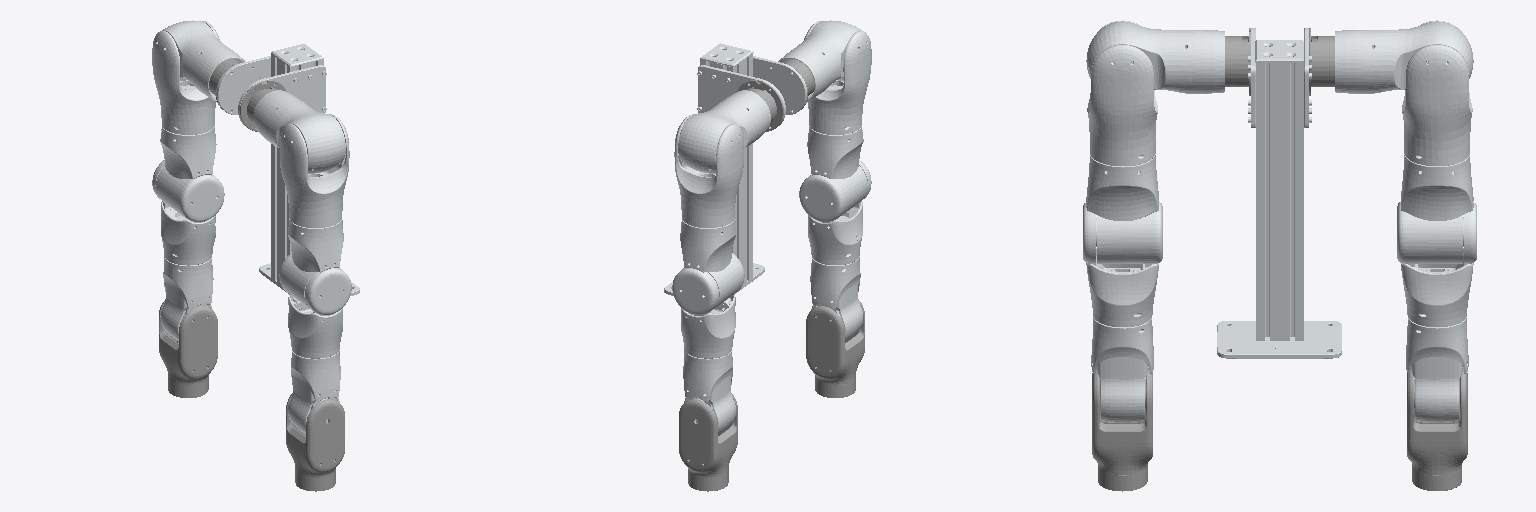
URDF robot description (A1_URDF):
<?xml version="1.0" encoding="utf-8"?>
<!-- This URDF was automatically created by SolidWorks to URDF Exporter! Originally created by Stephen Brawner.
     Commit Version: 1.6.0-4-g7f85cfe  Build Version: 1.6.7995.38578
     For more information, please see http://wiki.ros.org/sw_urdf_exporter -->
<robot
  name="A1_URDF">
  <mujoco>
    <compiler meshdir="meshes" strippath="true" balanceinertia="true" />
  </mujoco>
  <link
    name="base_link">
    <inertial>
      <origin
        xyz="-0.0058338864101595 -8.03875009165456E-05 0.203431150672762"
        rpy="0 0 0" />
      <mass
        value="1.71792346199407" />
      <inertia
        ixx="0.0139381299139192"
        ixy="1.4687666964717E-07"
        ixz="9.70056102150123E-08"
        iyy="0.0143114337354835"
        iyz="7.50664743835762E-09"
        izz="0.00224406571161415" />
    </inertial>
    <visual>
      <origin
        xyz="0 0 0"
        rpy="0 0 0" />
      <geometry>
        <mesh
          filename="./meshes/base_link.STL" />
      </geometry>
      <material
        name="">
        <color
          rgba="0.898039215686275 0.917647058823529 0.929411764705882 1" />
      </material>
    </visual>
    <collision>
      <origin
        xyz="0 0 0"
        rpy="0 0 0" />
      <geometry>
        <mesh
          filename="./meshes/base_link.STL" />
      </geometry>
    </collision>
  </link>
  <link
    name="Link_r0">
    <inertial>
      <origin
        xyz="-5.6409921329381197e-05 -3.2642115646686099e-05 0.029793383421359902"
        rpy="0 0 0" />
      <mass
        value="0.771006476050805" />
      <inertia
        ixx="0.00051809837073439299"
        ixy="1.03984672126558e-08"
        ixz="-1.1726530378199601e-06"
        iyy="0.00050832785177481695"
        iyz="1.0033747136799001e-06"
        izz="0.00051208645806623601" />
    </inertial>
    <visual>
      <origin
        xyz="0 0 0"
        rpy="-1.5707963267948966 0 -1.5707963267948966" />
      <geometry>
        <mesh
          filename="./meshes/Link_r0.STL" />
      </geometry>
      <material
        name="">
        <color
          rgba="0.698039215686274 0.698039215686274 0.698039215686274 1" />
      </material>
    </visual>
    <collision>
      <origin
        xyz="0 0 0"
        rpy="-1.5707963267948966 0 -1.5707963267948966" />
      <geometry>
        <mesh
          filename="./meshes/Link_r0.STL" />
      </geometry>
    </collision>
  </link>
  <joint
    name="joint_r0"
    type="fixed">
    <origin
      xyz="-0.080655000000000004 -0.035999999999999997 0.33600000000000002"
      rpy="1.5707963267948966 -1.5707963267948966 0" />
    <parent
      link="base_link" />
    <child
      link="Link_r0" />
    <axis
      xyz="0 0 0" />
  </joint>
  <link
    name="Link_r1">
    <inertial>
      <origin
        xyz="6.518312090911779e-05 0.00148531011922509 0.077562970455144625"
        rpy="0 0 0" />
      <mass
        value="0.699008573524528" />
      <inertia
        ixx="0.00072977611405417248"
        ixy="-3.1458761264417245e-07"
        ixz="-9.405868259133119e-07"
        iyy="0.00060985122772748803"
        iyz="-3.2996487668605226e-05"
        izz="0.00038040219651032441" />
    </inertial>
    <visual>
      <origin
        xyz="0 0 0"
        rpy="3.6732051033548342e-06 0 -1.5707963267948966" />
      <geometry>
        <mesh
          filename="./meshes/Link_r1.STL" />
      </geometry>
      <material
        name="">
        <color
          rgba="0.898039215686275 0.917647058823529 0.929411764705882 1" />
      </material>
    </visual>
    <collision>
      <origin
        xyz="0 0 0"
        rpy="3.6732051033548342e-06 0 -1.5707963267948966" />
      <geometry>
        <mesh
          filename="./meshes/Link_r1.STL" />
      </geometry>
    </collision>
  </link>
  <joint
    name="joint_r1"
    type="revolute">
    <origin
      xyz="0 0 0.060249999999999998"
      rpy="0 0 0" />
    <parent
      link="Link_r0" />
    <child
      link="Link_r1" />
    <axis
      xyz="-3.6732051033465739e-06 0 0.99999999999325373" />
    <limit
      lower="-1.04"
      upper="3.14"
      effort="0"
      velocity="0" />
  </joint>
  <link
    name="Link_r2">
    <inertial>
      <origin
        xyz="-2.74343503257717E-05 -0.072546377066496 0.00350067054448863"
        rpy="0 0 0" />
      <mass
        value="0.678339582027986" />
      <inertia
        ixx="0.000724376213206043"
        ixy="-8.23693462230819E-07"
        ixz="2.63513474631934E-09"
        iyy="0.000460494619893243"
        iyz="-2.93777853727707E-05"
        izz="0.000532103707262649" />
    </inertial>
    <visual>
      <origin
        xyz="0 0 0"
        rpy="0 0 0" />
      <geometry>
        <mesh
          filename="./meshes/Link_r2.STL" />
      </geometry>
      <material
        name="">
        <color
          rgba="0.898039215686275 0.917647058823529 0.929411764705882 1" />
      </material>
    </visual>
    <collision>
      <origin
        xyz="0 0 0"
        rpy="0 0 0" />
      <geometry>
        <mesh
          filename="./meshes/Link_r2.STL" />
      </geometry>
    </collision>
  </link>
  <joint
    name="joint_r2"
    type="revolute">
    <origin
      xyz="-3.625453437003069e-07 0 0.098699999999334154"
      rpy="2.3561944901889715 1.570791132098422 0.78539816340082136" />
    <parent
      link="Link_r1" />
    <child
      link="Link_r2" />
    <axis
      xyz="0 0 1" />
    <limit
      lower="-3.14"
      upper="0.26"
      effort="0"
      velocity="0" />
  </joint>
  <link
    name="Link_r3">
    <inertial>
      <origin
        xyz="-8.1362976005516202e-06 -0.0017008875565850941 0.093348891510299278"
        rpy="0 0 0" />
      <mass
        value="0.667439620002479" />
      <inertia
        ixx="0.00057113134645990255"
        ixy="-3.7332388083383994e-09"
        ixz="-1.5912574765149399e-07"
        iyy="0.00045138810652060749"
        iyz="1.3010338508541516e-05"
        izz="0.00041079968003224758" />
    </inertial>
    <visual>
      <origin
        xyz="0 0 0"
        rpy="3.6731916109191028e-06 3.6732051033300538e-06 -1.5708" />
      <geometry>
        <mesh
          filename="./meshes/Link_r3.STL" />
      </geometry>
      <material
        name="">
        <color
          rgba="0.898039215686275 0.917647058823529 0.929411764705882 1" />
      </material>
    </visual>
    <collision>
      <origin
        xyz="0 0 0"
        rpy="3.6731916109191028e-06 3.6732051033300538e-06 -1.5708" />
      <geometry>
        <mesh
          filename="./meshes/Link_r3.STL" />
      </geometry>
    </collision>
  </link>
  <joint
    name="joint_r3"
    type="revolute">
    <origin
      xyz="0 -0.1215 0"
      rpy="-1.5708 -1.5707926535897934 -3.1415926535897931" />
    <parent
      link="Link_r2" />
    <child
      link="Link_r3" />
    <axis
      xyz="-3.6732051033217936e-06 -3.6731916108860622e-06 0.99999999998650746" />
    <limit
      lower="-2.75"
      upper="2.75"
      effort="0"
      velocity="0" />
  </joint>
  <link
    name="Link_r4">
    <inertial>
      <origin
        xyz="-1.1669197211027207e-07 -0.07189958209189648 0.0056221733970643088"
        rpy="0 0 0" />
      <mass
        value="0.507385590081131" />
      <inertia
        ixx="0.00027640421177088181"
        ixy="-2.0346269658392819e-09"
        ixz="9.7403070624895663e-10"
        iyy="0.00025609520507405796"
        iyz="-3.4632432093237875e-05"
        izz="0.00027795453087980297" />
    </inertial>
    <visual>
      <origin
        xyz="0 0 0"
        rpy="-3.141585307193079 1.3492410950824811e-11 -3.6732051033052739e-06" />
      <geometry>
        <mesh
          filename="./meshes/Link_r4.STL" />
      </geometry>
      <material
        name="">
        <color
          rgba="0.898039215686275 0.917647058823529 0.929411764705882 1" />
      </material>
    </visual>
    <collision>
      <origin
        xyz="0 0 0"
        rpy="-3.141585307193079 1.3492410950824811e-11 -3.6732051033052739e-06" />
      <geometry>
        <mesh
          filename="./meshes/Link_r4.STL" />
      </geometry>
    </collision>
  </link>
  <joint
    name="joint_r4"
    type="revolute">
    <origin
      xyz="-4.1176794502467211e-07 -0.00010086139745906392 0.11199999962951541"
      rpy="-1.5707963267948966 0 0" />
    <parent
      link="Link_r3" />
    <child
      link="Link_r4" />
    <axis
      xyz="-1.3492410950664359e-11 -7.3463967141830754e-06 0.99999999997301503" />
    <limit
      lower="-1.91"
      upper="1.91"
      effort="0"
      velocity="0" />
  </joint>
  <link
    name="Link_r5">
    <inertial>
      <origin
        xyz="-9.91897391888763E-07 8.11496771671166E-05 0.0882672050468976"
        rpy="0 0 0" />
      <mass
        value="0.533144427415355" />
      <inertia
        ixx="0.000403030021531325"
        ixy="8.27262504310674E-10"
        ixz="6.54807099008976E-08"
        iyy="0.00038314756874412"
        iyz="-5.79344513642361E-06"
        izz="0.000240045327533057" />
    </inertial>
    <visual>
      <origin
        xyz="0 0 0"
        rpy="0 0 0" />
      <geometry>
        <mesh
          filename="./meshes/Link_r5.STL" />
      </geometry>
      <material
        name="">
        <color
          rgba="0.898039215686275 0.917647058823529 0.929411764705882 1" />
      </material>
    </visual>
    <collision>
      <origin
        xyz="0 0 0"
        rpy="0 0 0" />
      <geometry>
        <mesh
          filename="./meshes/Link_r5.STL" />
      </geometry>
    </collision>
  </link>
  <joint
    name="joint_r5"
    type="revolute">
    <origin
      xyz="-4.0772576782128141e-07 -0.11100000073420146 9.9634549962015071e-05"
      rpy="1.5707999999865074 1.3492410951172447e-11 -3.6732051033052743e-06" />
    <parent
      link="Link_r4" />
    <child
      link="Link_r5" />
    <axis
      xyz="0 0 1" />
    <limit
      lower="-2.75"
      upper="2.75"
      effort="0"
      velocity="0" />
  </joint>
  <link
    name="Link_r6">
    <inertial>
      <origin
        xyz="7.32513477796903E-06 0.0710144365941018 0.0039333569698452"
        rpy="0 0 0" />
      <mass
        value="0.519324512857312" />
      <inertia
        ixx="0.00042798982575796"
        ixy="-3.70095340129789E-07"
        ixz="-1.74151273423014E-07"
        iyy="0.000271059092665243"
        iyz="3.25620141655345E-05"
        izz="0.000351004414489397" />
    </inertial>
    <visual>
      <origin
        xyz="0 0 0"
        rpy="0 0 0" />
      <geometry>
        <mesh
          filename="./meshes/Link_r6.STL" />
      </geometry>
      <material
        name="">
        <color
          rgba="0.698039215686274 0.698039215686274 0.698039215686274 1" />
      </material>
    </visual>
    <collision>
      <origin
        xyz="0 0 0"
        rpy="0 0 0" />
      <geometry>
        <mesh
          filename="./meshes/Link_r6.STL" />
      </geometry>
    </collision>
  </link>
  <joint
    name="joint_r6"
    type="revolute">
    <origin
      xyz="0 0 0.11"
      rpy="1.5708 0 0" />
    <parent
      link="Link_r5" />
    <child
      link="Link_r6" />
    <axis
      xyz="0 0 1" />
    <limit
      lower="-1.57"
      upper="1.57"
      effort="0"
      velocity="0" />
  </joint>
  <link
    name="Link_r7">
    <inertial>
      <origin
        xyz="8.09907696464052E-13 -0.0022020925841694 0.00293052240317948"
        rpy="0 0 0" />
      <mass
        value="0.0177506448635755" />
      <inertia
        ixx="2.81905964099438E-06"
        ixy="5.38514683324669E-16"
        ixz="-7.35875033932577E-18"
        iyy="1.89453459279246E-06"
        iyz="2.22908037665912E-09"
        izz="4.60994245909736E-06" />
    </inertial>
    <visual>
      <origin
        xyz="0 0 0"
        rpy="0 0 0" />
      <geometry>
        <mesh
          filename="./meshes/Link_r7.STL" />
      </geometry>
      <material
        name="">
        <color
          rgba="0.898039215686275 0.917647058823529 0.929411764705882 1" />
      </material>
    </visual>
    <collision>
      <origin
        xyz="0 0 0"
        rpy="0 0 0" />
      <geometry>
        <mesh
          filename="./meshes/Link_r7.STL" />
      </geometry>
    </collision>
  </link>
  <joint
    name="joint_r7"
    type="revolute">
    <origin
      xyz="0 0.112 0"
      rpy="1.5708 0 3.1416" />
    <parent
      link="Link_r6" />
    <child
      link="Link_r7" />
    <axis
      xyz="0 0 1" />
    <limit
      lower="-2.75"
      upper="2.75"
      effort="0"
      velocity="0" />
  </joint>
  <link
    name="Link_l0">
    <inertial>
      <origin
        xyz="-5.0300863574825903e-05 3.2805538599273202e-05 0.0297888442636636"
        rpy="0 0 0" />
      <mass
        value="0.771130628935356" />
      <inertia
        ixx="0.00051812416042226696"
        ixy="1.17368170849288e-08"
        ixz="-1.0443053540982601e-06"
        iyy="0.00050860231794612595"
        iyz="-1.0004433284959899e-06"
        izz="0.00051220716326619005" />
    </inertial>
    <visual>
      <origin
        xyz="0 0 0"
        rpy="1.5707963267948966 0 1.5707963267948966" />
      <geometry>
        <mesh
          filename="./meshes/Link_l0.STL" />
      </geometry>
      <material
        name="">
        <color
          rgba="0.698039215686274 0.698039215686274 0.698039215686274 1" />
      </material>
    </visual>
    <collision>
      <origin
        xyz="0 0 0"
        rpy="1.5707963267948966 0 1.5707963267948966" />
      <geometry>
        <mesh
          filename="./meshes/Link_l0.STL" />
      </geometry>
    </collision>
  </link>
  <joint
    name="joint_l0"
    type="fixed">
    <origin
      xyz="-0.080655000000000004 0.035999999999999997 0.33600000000000002"
      rpy="-1.5707963267948966 -1.5707963267948966 0" />
    <parent
      link="base_link" />
    <child
      link="Link_l0" />
    <axis
      xyz="0 0 0" />
  </joint>
  <link
    name="Link_l1">
    <inertial>
      <origin
        xyz="6.5324588011508408e-05 -0.00148530538922362 0.077562609895676662"
        rpy="0 0 0" />
      <mass
        value="0.699012569536138" />
      <inertia
        ixx="0.00072979235205175618"
        ixy="3.1743392264302849e-07"
        ixz="-9.4036135142407659e-07"
        iyy="0.00060985219884004602"
        iyz="3.2990584247127065e-05"
        izz="0.0003804126792904538" />
    </inertial>
    <visual>
      <origin
        xyz="0 0 0"
        rpy="-3.6732051033548342e-06 0 1.5707963267948966" />
      <geometry>
        <mesh
          filename="./meshes/Link_l1.STL" />
      </geometry>
      <material
        name="">
        <color
          rgba="0.898039215686275 0.917647058823529 0.929411764705882 1" />
      </material>
    </visual>
    <collision>
      <origin
        xyz="0 0 0"
        rpy="-3.6732051033548342e-06 0 1.5707963267948966" />
      <geometry>
        <mesh
          filename="./meshes/Link_l1.STL" />
      </geometry>
    </collision>
  </link>
  <joint
    name="joint_l1"
    type="revolute">
    <origin
      xyz="0 0 0.060249999999999998"
      rpy="0 0 0" />
    <parent
      link="Link_l0" />
    <child
      link="Link_l1" />
    <axis
      xyz="-3.6732051033465739e-06 0 0.99999999999325373" />
    <limit
      lower="-3.14"
      upper="1.04"
      effort="0"
      velocity="0" />
  </joint>
  <link
    name="Link_l2">
    <inertial>
      <origin
        xyz="2.5991096323486929e-05 -0.072547396038183734 0.003400097494069746"
        rpy="0 0 0" />
      <mass
        value="0.678292070540836" />
      <inertia
        ixx="0.00072432950401666869"
        ixy="8.2612207422305146e-07"
        ixz="-2.1849670801061952e-08"
        iyy="0.00046047580209213881"
        iyz="-2.9386963128138003e-05"
        izz="0.00053206184166665414" />
    </inertial>
    <visual>
      <origin
        xyz="0 0 0"
        rpy="3.6732051033548342e-06 3.6732051033548342e-06 -1.5708" />
      <geometry>
        <mesh
          filename="./meshes/Link_l2.STL" />
      </geometry>
      <material
        name="">
        <color
          rgba="0.898039215686275 0.917647058823529 0.929411764705882 1" />
      </material>
    </visual>
    <collision>
      <origin
        xyz="0 0 0"
        rpy="3.6732051033548342e-06 3.6732051033548342e-06 -1.5708" />
      <geometry>
        <mesh
          filename="./meshes/Link_l2.STL" />
      </geometry>
    </collision>
  </link>
  <joint
    name="joint_l2"
    type="revolute">
    <origin
      xyz="-3.625453437003069e-07 0 0.098699999999334154"
      rpy="-1.5707963267948966 -1.5707963267948966 0" />
    <parent
      link="Link_l1" />
    <child
      link="Link_l2" />
    <axis
      xyz="-3.6732185957575245e-06 -3.6731916108612818e-06 0.99999999998650746" />
    <limit
      lower="-0.26"
      upper="3.14"
      effort="0"
      velocity="0" />
  </joint>
  <link
    name="Link_l3">
    <inertial>
      <origin
        xyz="7.3710224592908454e-06 0.0017008042461317484 0.093348891534898976"
        rpy="0 0 0" />
      <mass
        value="0.667439620457598" />
      <inertia
        ixx="0.00057113134735861442"
        ixy="8.7738829423632978e-09"
        ixz="1.616519696595284e-07"
        iyy="0.00045138810612053347"
        iyz="-1.3010321692357674e-05"
        izz="0.00041079968877403438" />
    </inertial>
    <visual>
      <origin
        xyz="0 0 0"
        rpy="3.6735724225648736e-06 3.6731915925283599e-06 -3.1414926535763001" />
      <geometry>
        <mesh
          filename="./meshes/Link_l3.STL" />
      </geometry>
      <material
        name="">
        <color
          rgba="0.898039215686275 0.917647058823529 0.929411764705882 1" />
      </material>
    </visual>
    <collision>
      <origin
        xyz="0 0 0"
        rpy="3.6735724225648736e-06 3.6731915925283599e-06 -3.1414926535763001" />
      <geometry>
        <mesh
          filename="./meshes/Link_l3.STL" />
      </geometry>
    </collision>
  </link>
  <joint
    name="joint_l3"
    type="revolute">
    <origin
      xyz="-4.4592709819402209e-07 -0.12149999963104151 -0.00010044629441870738"
      rpy="1.5707963267948966 -1.5707963267948966 0" />
    <parent
      link="Link_l2" />
    <child
      link="Link_l3" />
    <axis
      xyz="-3.6735589314205621e-06 3.6732050849805432e-06 0.99999999998650602" />
    <limit
      lower="-2.75"
      upper="2.75"
      effort="0"
      velocity="0" />
  </joint>
  <link
    name="Link_l4">
    <inertial>
      <origin
        xyz="-1.47550542811681E-07 0.0718995408470047 0.00562270150238153"
        rpy="0 0 0" />
      <mass
        value="0.507385586657591" />
      <inertia
        ixx="0.000276404210892645"
        ixy="-1.96033387806223E-09"
        ixz="-1.10172820487673E-09"
        iyy="0.000256094693830901"
        iyz="3.46322717041057E-05"
        izz="0.000277955036928398" />
    </inertial>
    <visual>
      <origin
        xyz="0 0 0"
        rpy="0 0 0" />
      <geometry>
        <mesh
          filename="./meshes/Link_l4.STL" />
      </geometry>
      <material
        name="">
        <color
          rgba="0.898039215686275 0.917647058823529 0.929411764705882 1" />
      </material>
    </visual>
    <collision>
      <origin
        xyz="0 0 0"
        rpy="0 0 0" />
      <geometry>
        <mesh
          filename="./meshes/Link_l4.STL" />
      </geometry>
    </collision>
  </link>
  <joint
    name="joint_l4"
    type="revolute">
    <origin
      xyz="-4.2148360030222731e-07 0.00010086139846659004 0.11199999962947839"
      rpy="1.5707963264005926 -3.6731646048592994e-06 0.0001073464236997842" />
    <parent
      link="Link_l3" />
    <child
      link="Link_l4" />
    <axis
      xyz="0 0 1" />
    <limit
      lower="-1.91"
      upper="1.91"
      effort="0"
      velocity="0" />
  </joint>
  <link
    name="Link_l5">
    <inertial>
      <origin
        xyz="9.92172288272197E-07 -8.1147493016076E-05 0.0882672055879332"
        rpy="0 0 0" />
      <mass
        value="0.533144415193751" />
      <inertia
        ixx="0.000403030005194806"
        ixy="8.25514348455567E-10"
        ixz="-6.54808917976416E-08"
        iyy="0.00038314755750435"
        iyz="5.79347520210361E-06"
        izz="0.000240045322334498" />
    </inertial>
    <visual>
      <origin
        xyz="0 0 0"
        rpy="0 0 0" />
      <geometry>
        <mesh
          filename="./meshes/Link_l5.STL" />
      </geometry>
      <material
        name="">
        <color
          rgba="0.898039215686275 0.917647058823529 0.929411764705882 1" />
      </material>
    </visual>
    <collision>
      <origin
        xyz="0 0 0"
        rpy="0 0 0" />
      <geometry>
        <mesh
          filename="./meshes/Link_l5.STL" />
      </geometry>
    </collision>
  </link>
  <joint
    name="joint_l5"
    type="revolute">
    <origin
      xyz="0 0.111 0.00010045"
      rpy="-1.5708 0 0" />
    <parent
      link="Link_l4" />
    <child
      link="Link_l5" />
    <axis
      xyz="0 0 1" />
    <limit
      lower="-2.75"
      upper="2.75"
      effort="0"
      velocity="0" />
  </joint>
  <link
    name="Link_l6">
    <inertial>
      <origin
        xyz="-7.3240074565939E-06 -0.0710144386667431 0.00393335877979056"
        rpy="0 0 0" />
      <mass
        value="0.519324489008105" />
      <inertia
        ixx="0.000427989792447479"
        ixy="-3.70097046618755E-07"
        ixz="1.74154343441058E-07"
        iyy="0.000271059071495622"
        iyz="-3.2562028057684E-05"
        izz="0.000351004401667421" />
    </inertial>
    <visual>
      <origin
        xyz="0 0 0"
        rpy="0 0 0" />
      <geometry>
        <mesh
          filename="./meshes/Link_l6.STL" />
      </geometry>
      <material
        name="">
        <color
          rgba="0.698039215686274 0.698039215686274 0.698039215686274 1" />
      </material>
    </visual>
    <collision>
      <origin
        xyz="0 0 0"
        rpy="0 0 0" />
      <geometry>
        <mesh
          filename="./meshes/Link_l6.STL" />
      </geometry>
    </collision>
  </link>
  <joint
    name="joint_l6"
    type="revolute">
    <origin
      xyz="0 0 0.11"
      rpy="-1.5708 0 0" />
    <parent
      link="Link_l5" />
    <child
      link="Link_l6" />
    <axis
      xyz="0 0 1" />
    <limit
      lower="-1.57"
      upper="1.57"
      effort="0"
      velocity="0" />
  </joint>
  <link
    name="Link_l7">
    <inertial>
      <origin
        xyz="1.48194156501802E-07 -0.0022020925773697 0.00293052240317371"
        rpy="0 0 0" />
      <mass
        value="0.0177506448635751" />
      <inertia
        ixx="2.81905963680209E-06"
        ixy="6.22561213944916E-11"
        ixz="-2.05797154201455E-13"
        iyy="1.89453459698476E-06"
        iyz="2.22908043797951E-09"
        izz="4.60994245909715E-06" />
    </inertial>
    <visual>
      <origin
        xyz="0 0 0"
        rpy="0 0 0" />
      <geometry>
        <mesh
          filename="./meshes/Link_l7.STL" />
      </geometry>
      <material
        name="">
        <color
          rgba="0.898039215686275 0.917647058823529 0.929411764705882 1" />
      </material>
    </visual>
    <collision>
      <origin
        xyz="0 0 0"
        rpy="0 0 0" />
      <geometry>
        <mesh
          filename="./meshes/Link_l7.STL" />
      </geometry>
    </collision>
  </link>
  <joint
    name="joint_l7"
    type="revolute">
    <origin
      xyz="0 -0.112 0"
      rpy="1.5708 6.7338E-05 0" />
    <parent
      link="Link_l6" />
    <child
      link="Link_l7" />
    <axis
      xyz="0 0 1" />
    <limit
      lower="-2.75"
      upper="2.75"
      effort="0"
      velocity="0" />
  </joint>
</robot>

--- What the picture shows (computed from the rendered views, not written in the file) ---
3 views of the same robot in one strip: view 1: azimuth 30°, elevation 25°; view 2: azimuth 150°, elevation 25°; view 3: azimuth 270°, elevation 25° (orthographic).
Model A1_URDF with 17 links and 16 joints (14 revolute, 2 fixed), rooted at base_link, posed all joints at 0.
Links seen in each view (by area): view 1: base_link, Link_l3, Link_r2, Link_r4, Link_r1, Link_l6, Link_r6, Link_l2, Link_r3, Link_l1, Link_r5, Link_l5 (+2 smaller); view 2: base_link, Link_r3, Link_l2, Link_l4, Link_l1, Link_r6, Link_l6, Link_r2, Link_l3, Link_r1, Link_r5, Link_l5 (+2 smaller); view 3: base_link, Link_l2, Link_r2, Link_l3, Link_r3, Link_r1, Link_l1, Link_l5, Link_r5, Link_r4, Link_l4, Link_r6 (+3 smaller).
Link boxes in pixels (x1,y1,x2,y2): base_link: (216, 44, 359, 295); Link_l3: (156, 126, 224, 221); Link_r2: (280, 114, 349, 227); Link_r4: (288, 268, 351, 358); Link_r1: (253, 90, 345, 173); Link_l6: (159, 301, 217, 397); Link_r6: (286, 393, 344, 491); Link_l2: (152, 21, 219, 134); Link_r3: (279, 219, 343, 308); Link_l1: (162, 20, 245, 101); Link_r5: (288, 350, 340, 433); Link_l5: (160, 257, 213, 340); base_link: (664, 43, 806, 295); Link_r3: (799, 126, 867, 221); Link_l2: (674, 114, 743, 227); Link_l4: (672, 268, 735, 358); Link_l1: (678, 90, 770, 173); Link_r6: (806, 301, 864, 397); Link_l6: (679, 393, 737, 491); Link_r2: (804, 21, 871, 134); Link_l3: (680, 219, 744, 308); Link_r1: (778, 20, 861, 101); Link_r5: (810, 256, 862, 340); Link_l5: (683, 350, 735, 433); base_link: (1217, 28, 1341, 358); Link_l2: (1402, 20, 1472, 165); Link_r2: (1087, 21, 1157, 165); Link_l3: (1397, 154, 1473, 263); Link_r3: (1086, 154, 1162, 263); Link_r1: (1086, 21, 1224, 93); Link_l1: (1335, 21, 1473, 93); Link_l5: (1406, 317, 1468, 422); Link_r5: (1091, 317, 1153, 422); Link_r4: (1083, 203, 1158, 326); Link_l4: (1401, 203, 1476, 326); Link_r6: (1092, 369, 1152, 491).
Bounding box of the posed robot: 0.2022 × 0.4897 × 0.6277 m (x, y, z).
17 mesh visuals loaded from 17 distinct referenced files (17 binary STL).
